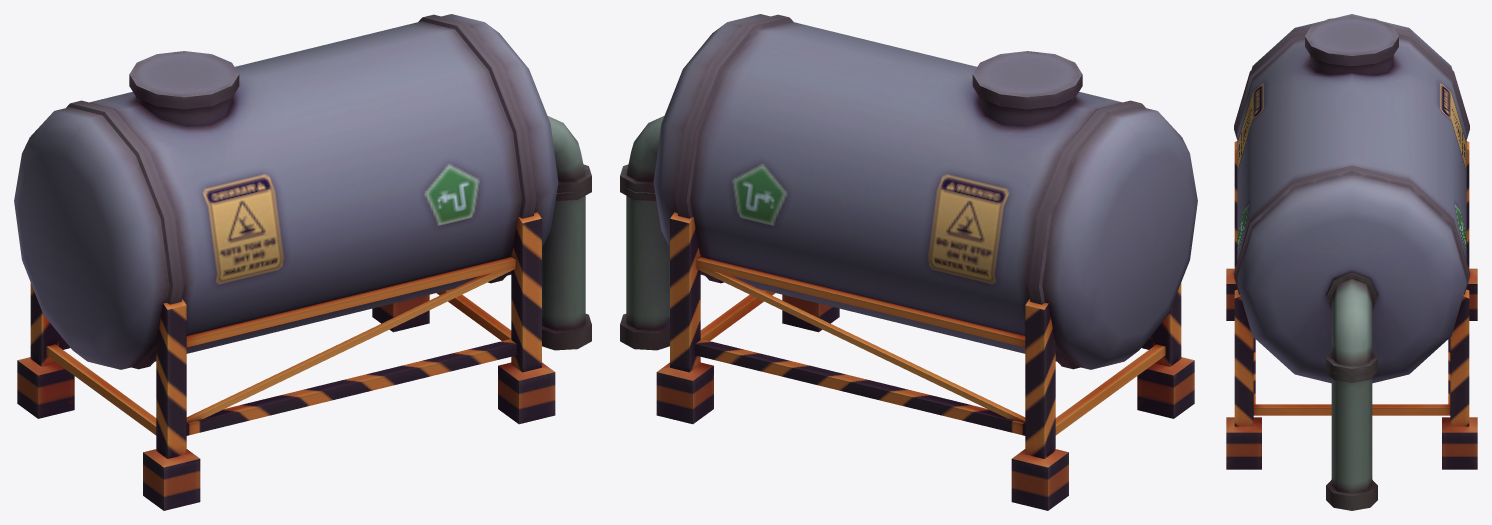
The model's file is Obstacle_WaterTank.FBX.
3 views of the same model, side by side, from view 1: azimuth 30°, elevation 25°; view 2: azimuth 150°, elevation 25°; view 3: azimuth 270°, elevation 25° (orthographic). The views are drawn at different scales.
Parts seen in each view (by area): view 1: Obstacle_WaterTank; view 2: Obstacle_WaterTank; view 3: Obstacle_WaterTank.
Boxes of the visible parts, bbox=[...] form: Obstacle_WaterTank: bbox=[14, 14, 591, 510]; Obstacle_WaterTank: bbox=[620, 14, 1197, 510]; Obstacle_WaterTank: bbox=[1226, 14, 1477, 510].
Bounding box in the file's own units: 24.92 × 16.19 × 11.94.
